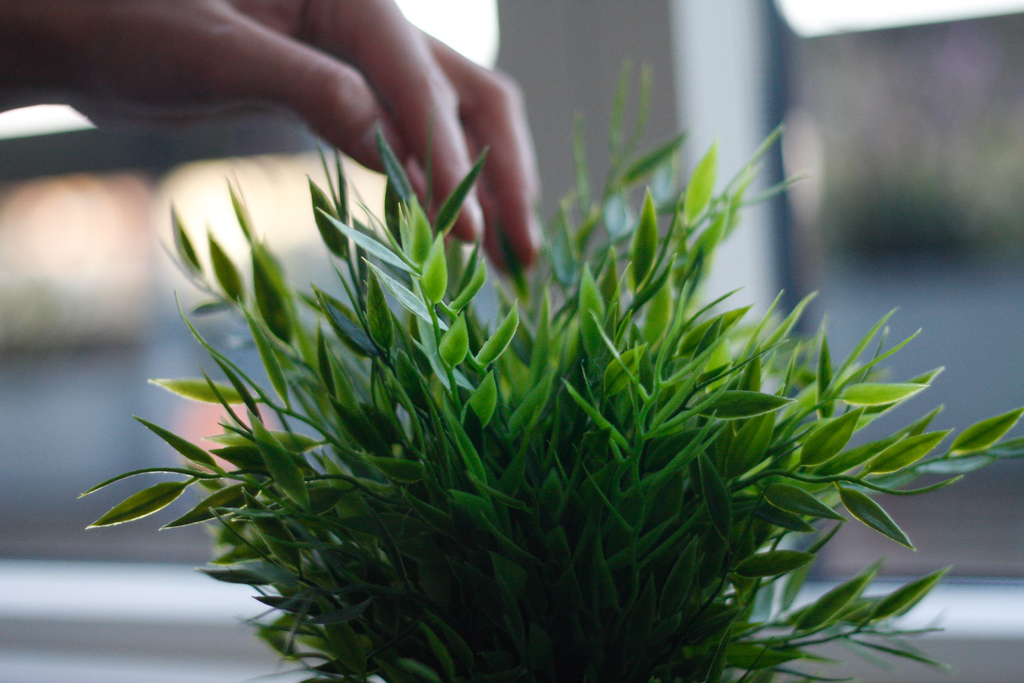person: (0, 1, 542, 363)
